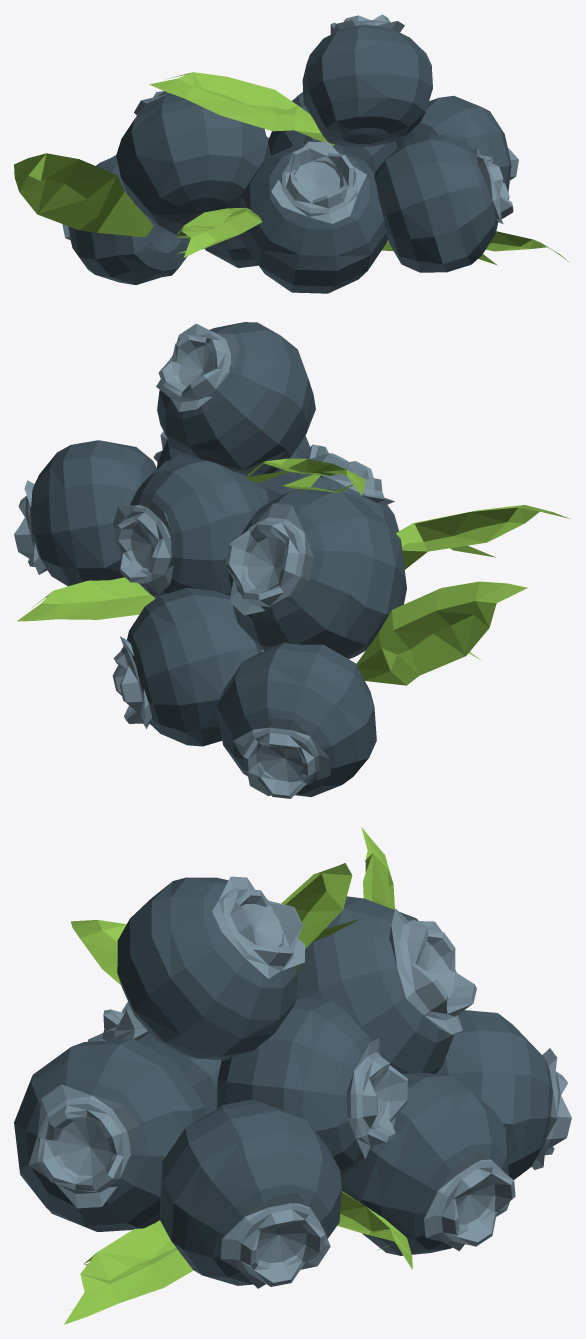
Rendered from Berry.glb.
The picture shows the model from 3 angles, top to bottom: view 1: azimuth 30°, elevation 25°; view 2: azimuth 150°, elevation 25°; view 3: azimuth 270°, elevation 25°; orthographic projection. The views are drawn at different scales.
Parts seen in each view (by area): view 1: Node; view 2: Node; view 3: Node.
Part boxes in pixels (x1,y1,x2,y2): Node: (14, 14, 568, 293); Node: (14, 322, 569, 798); Node: (14, 827, 571, 1324).
Bounding box in the file's own units: 0.8401 × 0.501 × 0.628.
